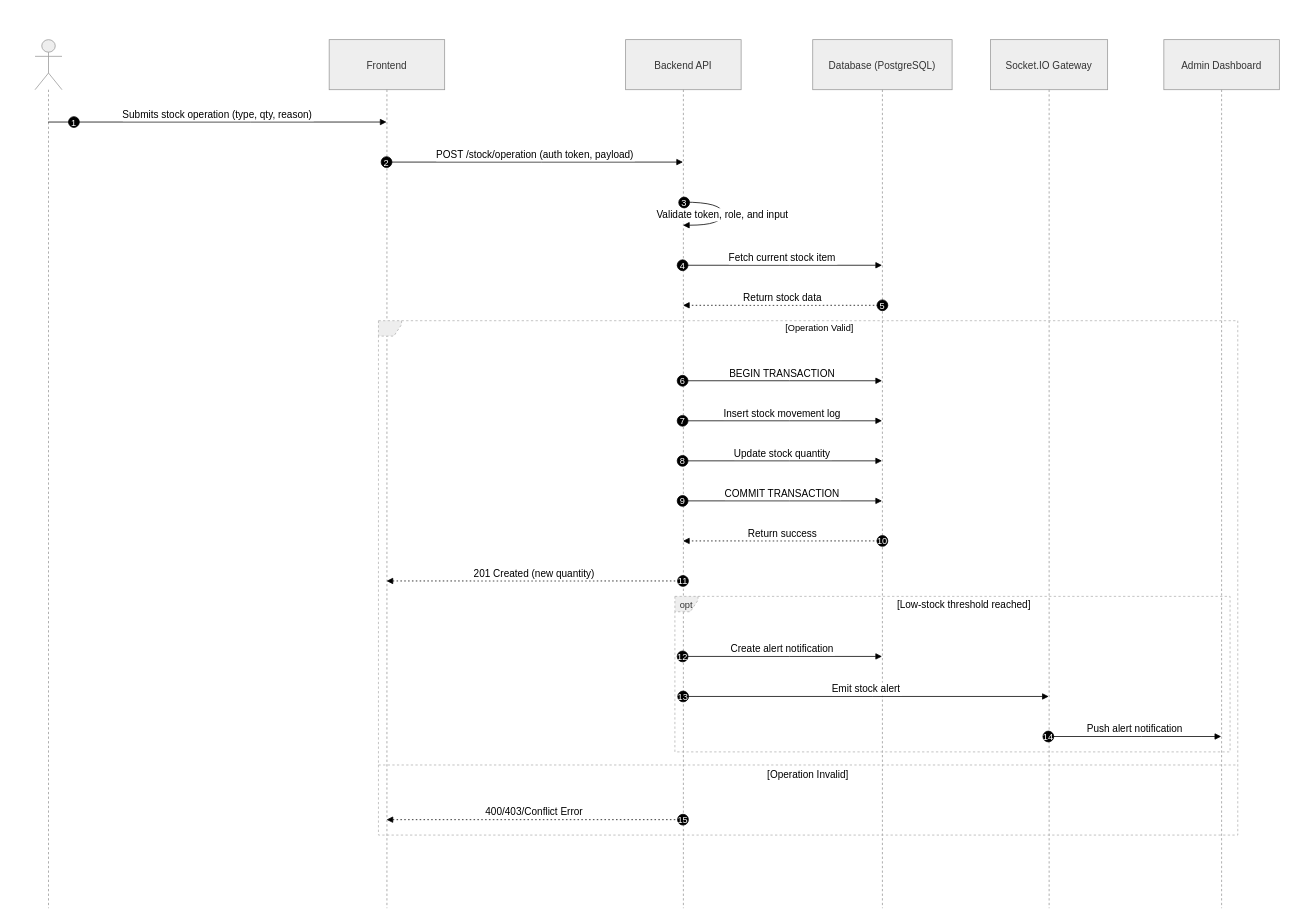
The diagram is 1293 pixels wide and 922 high, and some of its shapes have lost their labels. Here are the shapes that lost their labels. From the top down, the box of each, then its label:
(34, 39, 62, 908): User (Admin/Worker)
(378, 320, 1238, 835): alt
